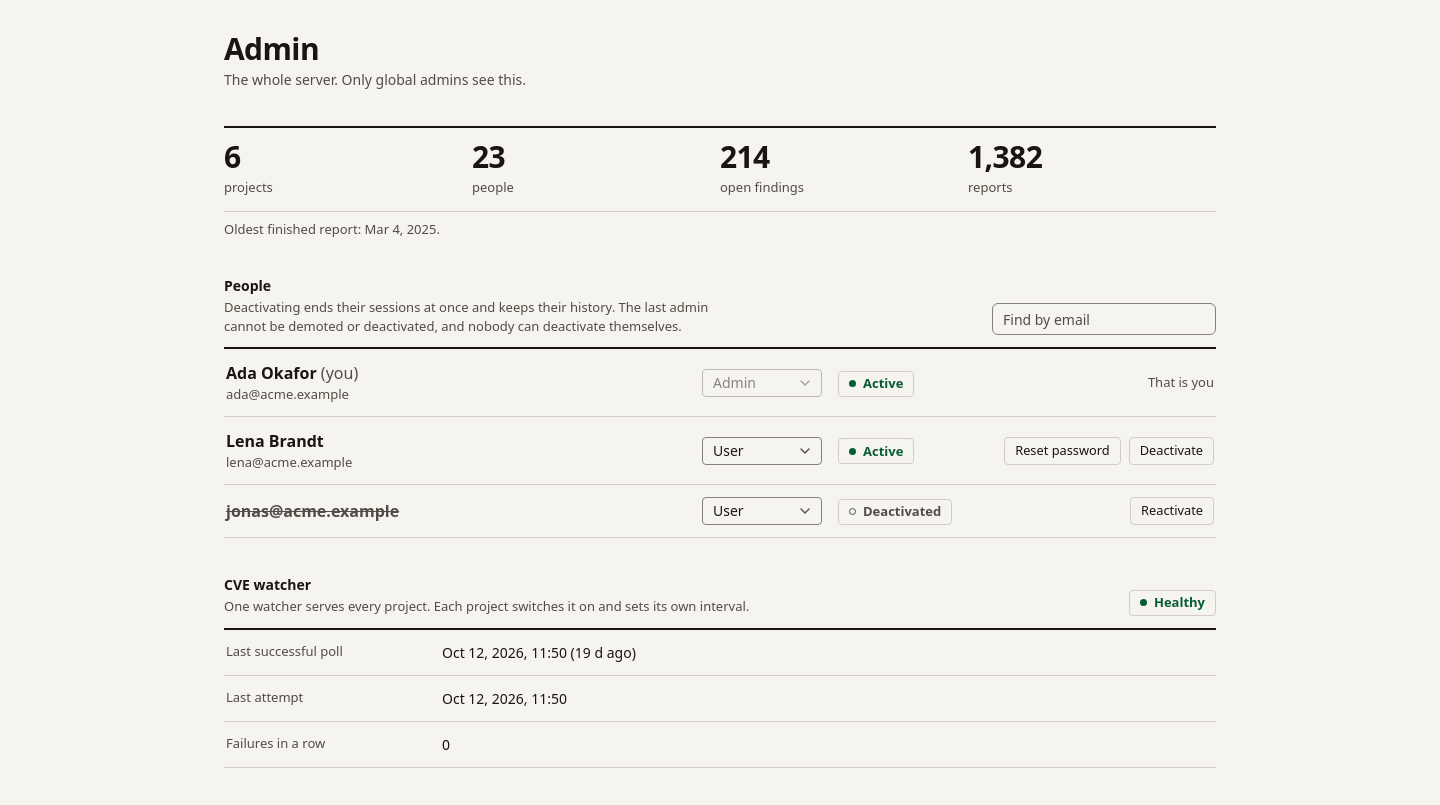
Test case: Admin › people › asks before deactivating, and does nothing when the question is declined
This screenshot has width=1440, height=805.
Click the button with aria-label "Deactivate Lena Brandt" at (1171, 451), box [1129,437,1214,465]
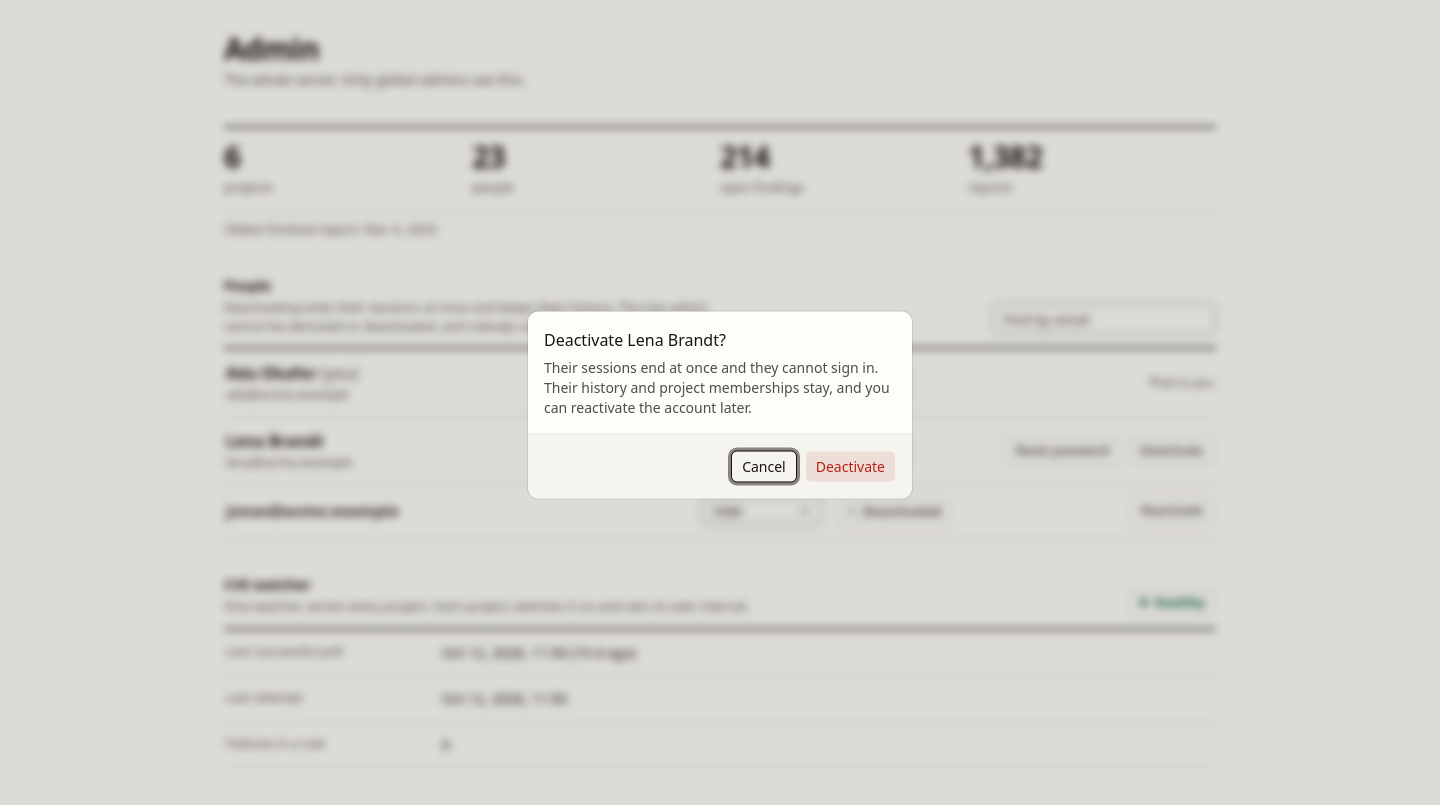
Click the button "Cancel" at (764, 466), box [731,450,797,482]
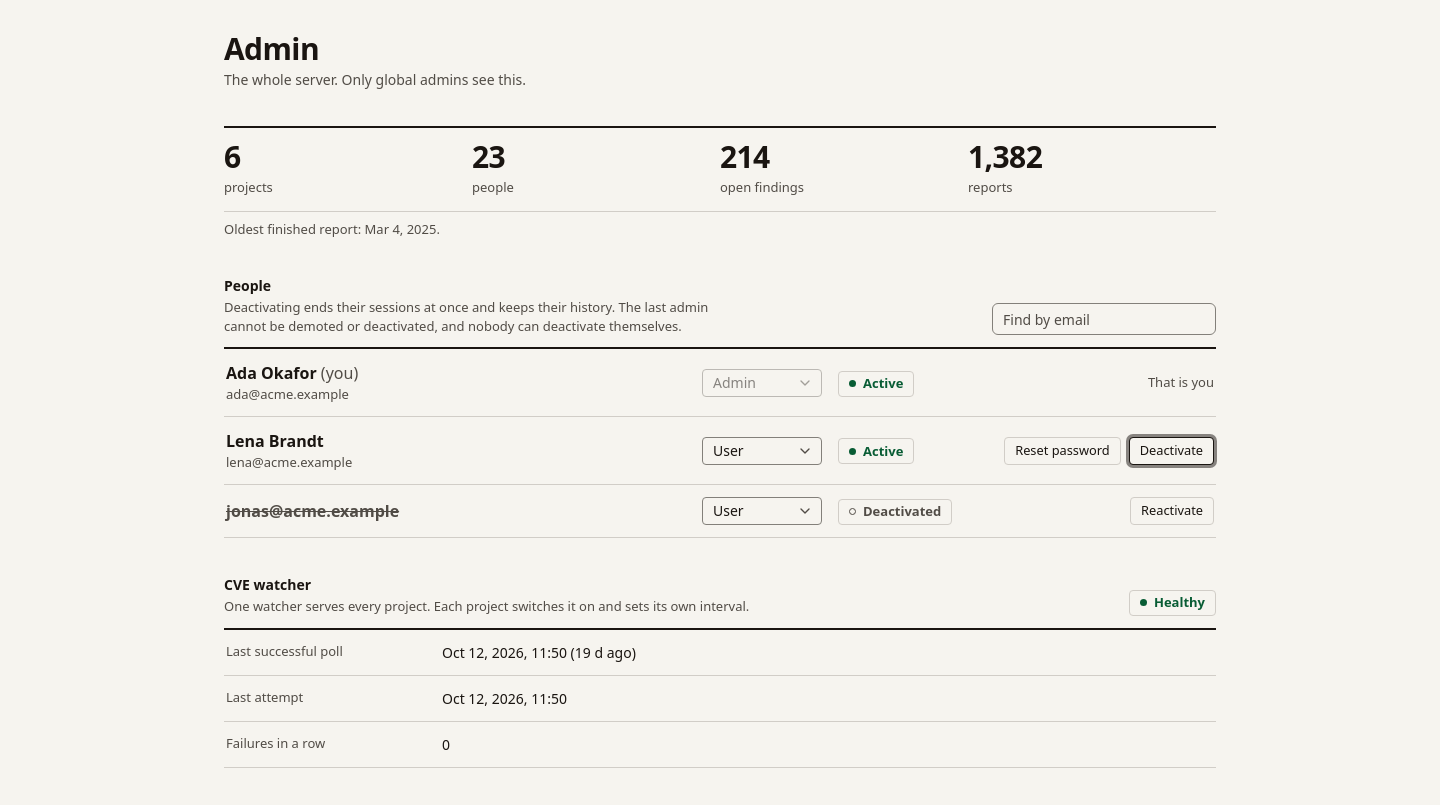
Now the dialog is gone
Click the button with aria-label "Deactivate Lena Brandt" at (1171, 451), box [1129,437,1214,465]
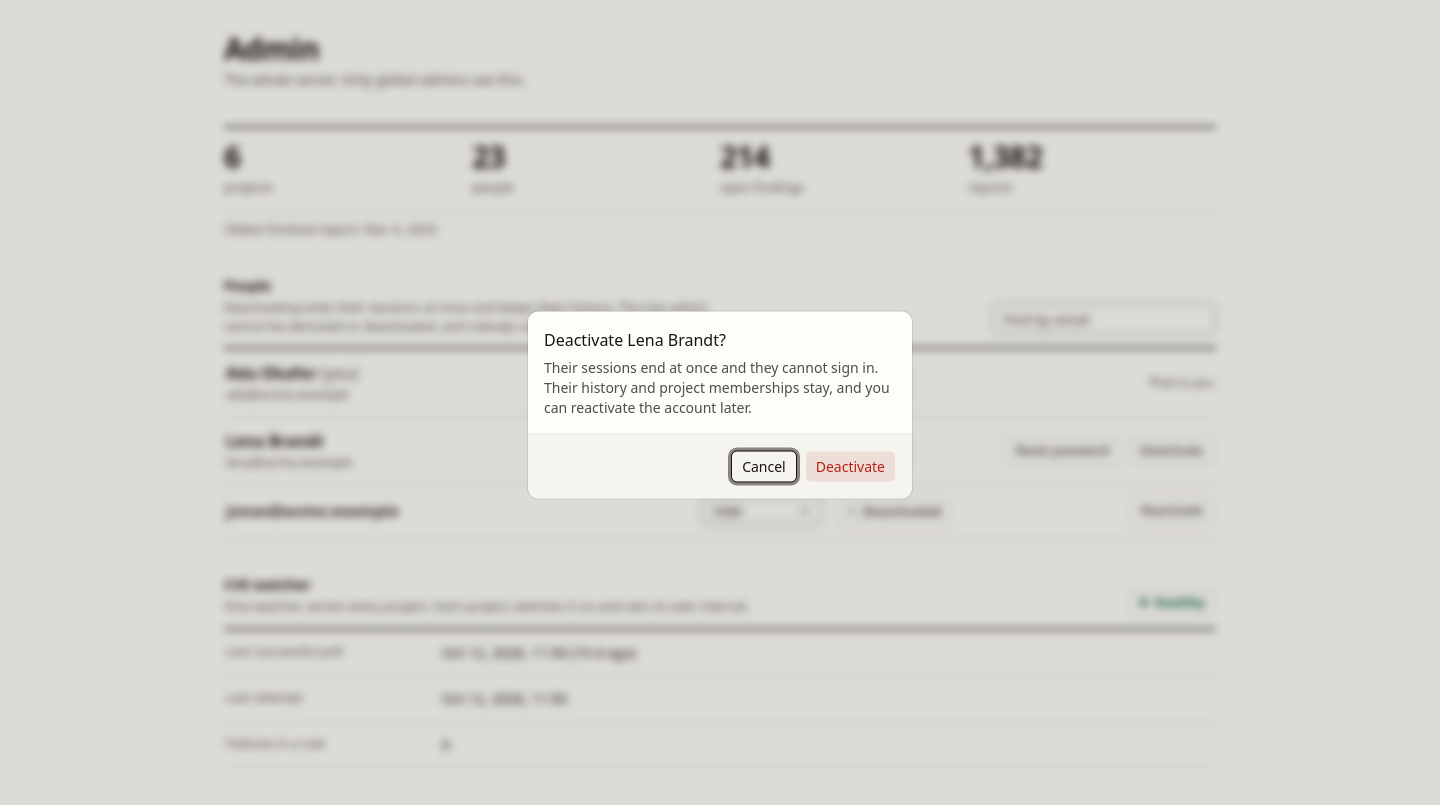
Click the button "Deactivate" at (850, 466), box [805,450,896,482]
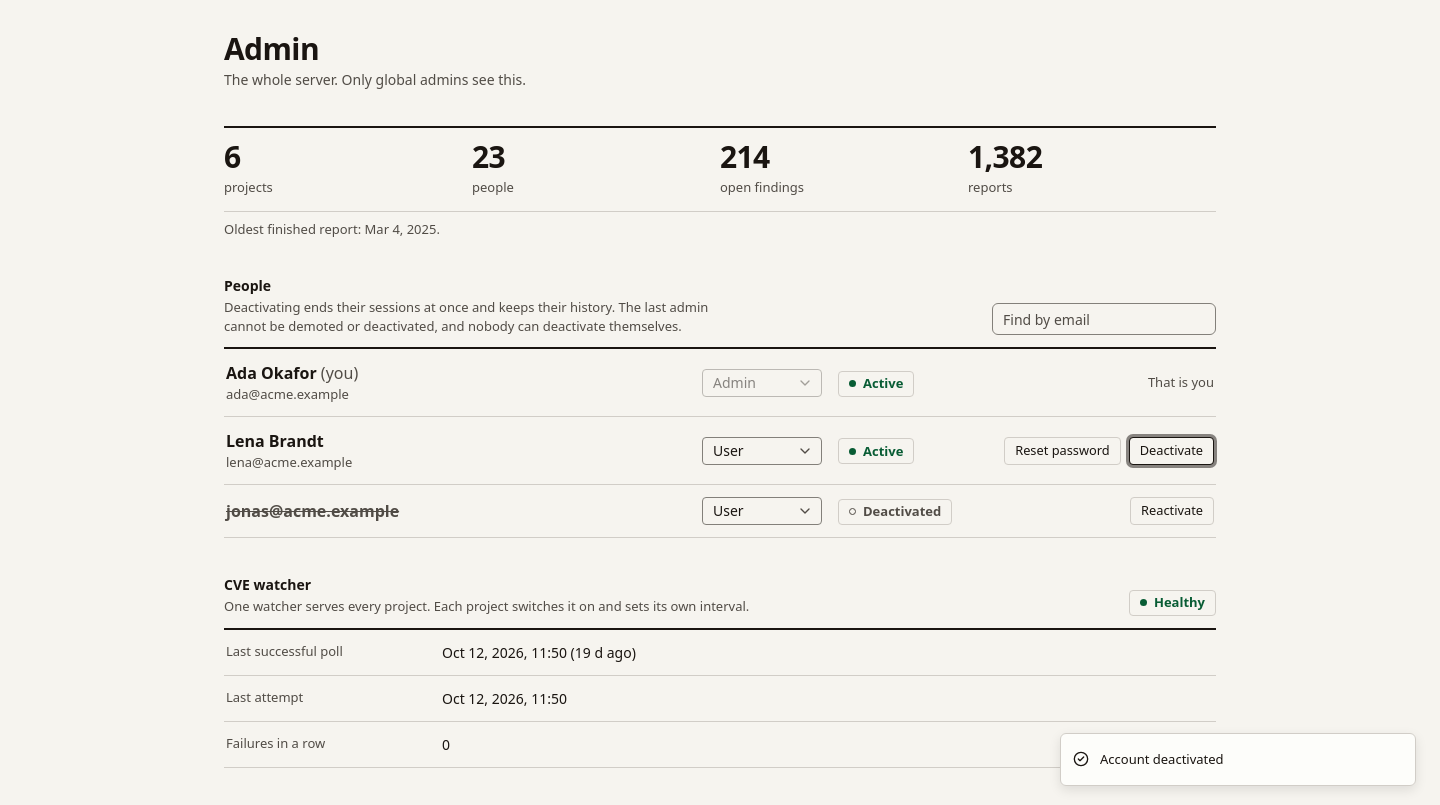
Now the text "Account deactivated" is shown, box [1100,750,1224,769]
